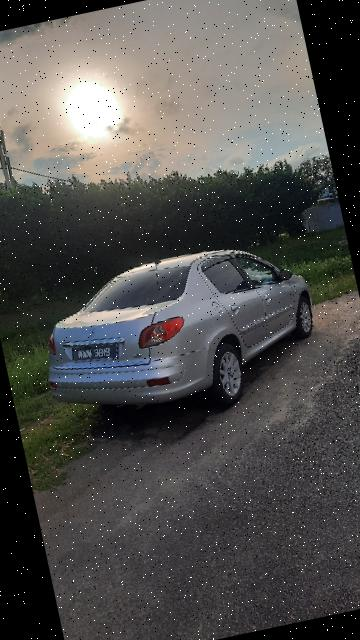License_Plate: (66, 333, 127, 371)
car: (17, 225, 330, 442)
